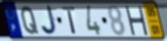4: (86, 4, 103, 37)
8: (107, 5, 127, 38)
H: (124, 5, 150, 37)
J: (40, 5, 59, 36)
Q: (20, 5, 40, 36)
T: (61, 6, 78, 35)
